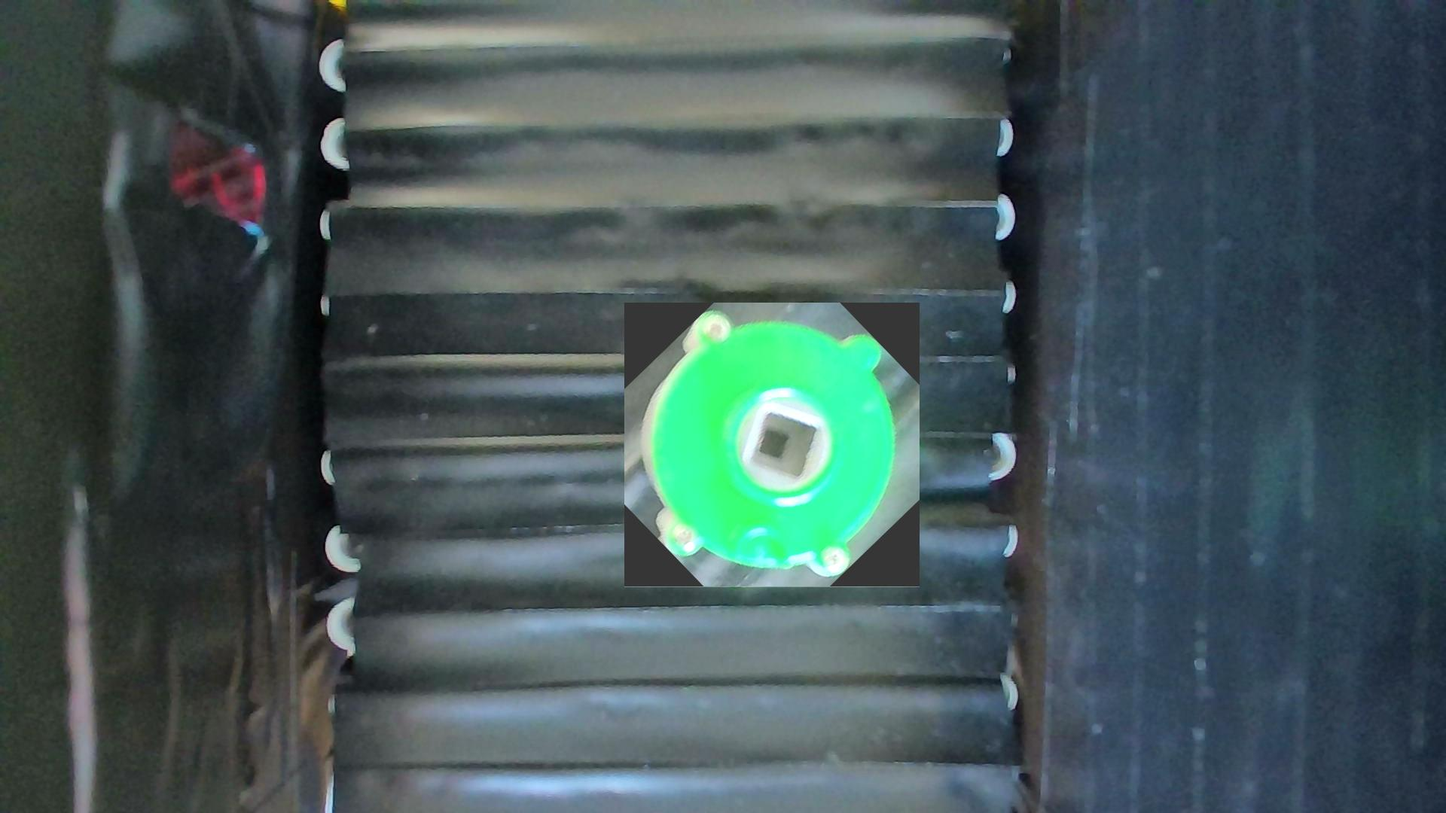cartridge: (624, 303, 920, 588)
